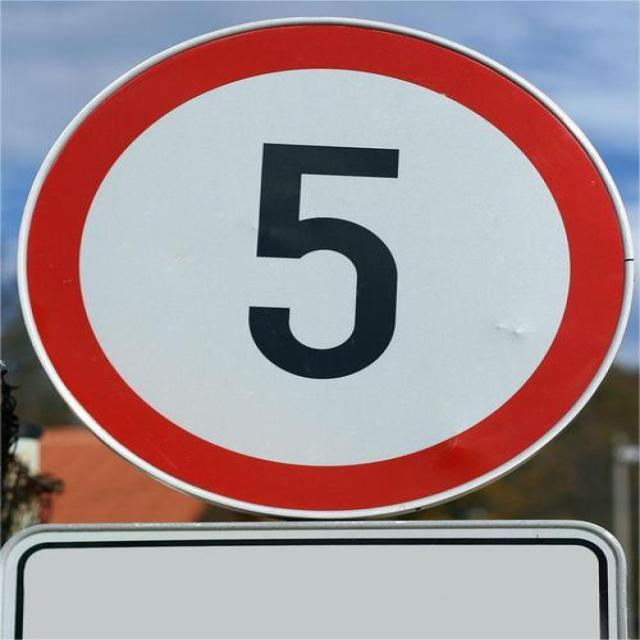speed limit 10: (18, 15, 634, 519)
